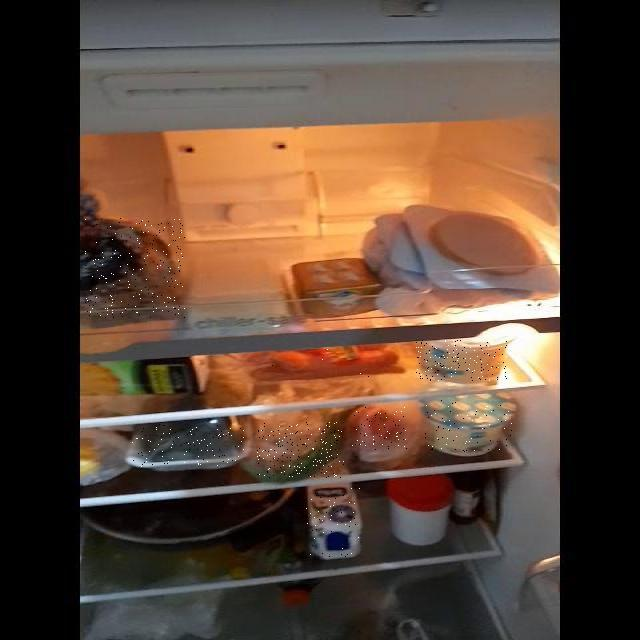bread: (83, 217, 185, 318)
broccoli: (132, 423, 244, 467)
carrot: (257, 348, 400, 380)
green chilies: (257, 422, 344, 478)
milk: (306, 486, 362, 557)
tomato: (352, 407, 407, 450)
yoghurt: (426, 400, 514, 453), (416, 340, 507, 381)
